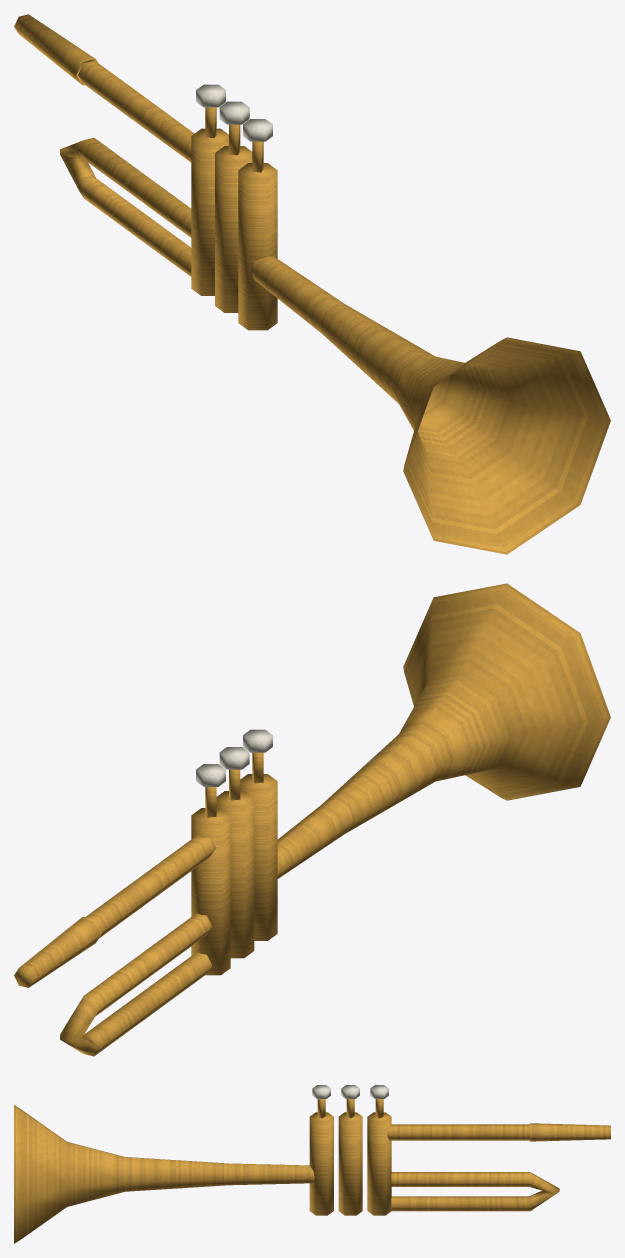
The model's file is trumpet_1.glb.
3 views of the same model, one above another, from view 1: azimuth 30°, elevation 25°; view 2: azimuth 150°, elevation 25°; view 3: azimuth 270°, elevation 25° (orthographic). The views are drawn at different scales.
Parts seen in each view (by area): view 1: trumpet_1; view 2: trumpet_1; view 3: trumpet_1.
Boxes of the visible parts, x1,y1,x2,y2 form: trumpet_1: (14, 14, 610, 554); trumpet_1: (14, 583, 610, 1056); trumpet_1: (14, 1085, 610, 1243).
Size of the model in its own units: 0.128 by 0.146 by 0.516.
2 materials, 2 textured.
